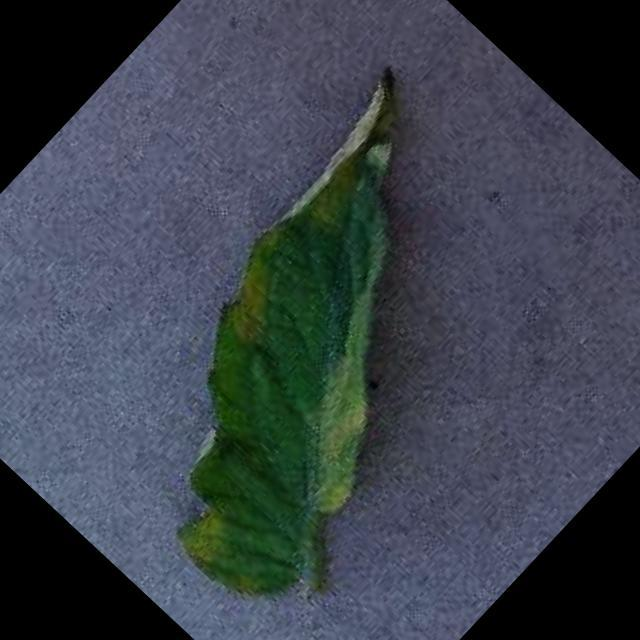Tomato mold leaf: (47, 62, 596, 622)
